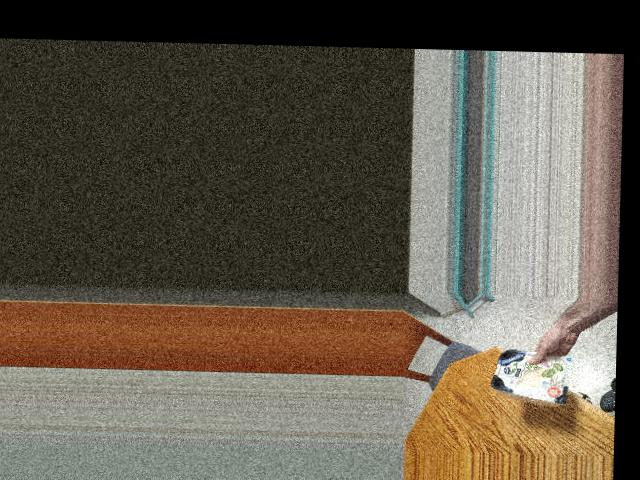cheese: (488, 345, 576, 396)
